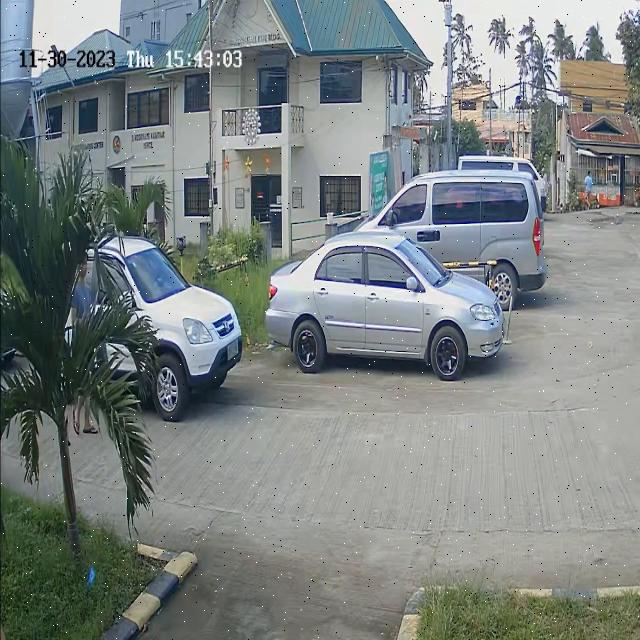human: (71, 248, 93, 312)
